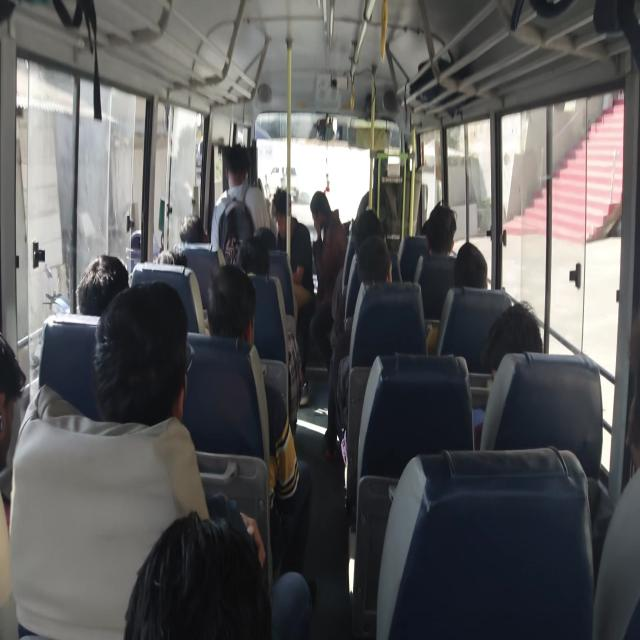person: (8, 276, 312, 638), (92, 280, 266, 571), (204, 264, 312, 572), (123, 508, 312, 639), (324, 233, 393, 463), (92, 280, 191, 426), (472, 300, 544, 449), (0, 332, 26, 637), (210, 143, 272, 263), (426, 241, 488, 354), (309, 190, 347, 360), (272, 187, 314, 308), (415, 202, 457, 319), (482, 300, 544, 379), (206, 264, 256, 344), (76, 253, 129, 316), (421, 202, 457, 258), (453, 241, 488, 289), (179, 213, 209, 244)
